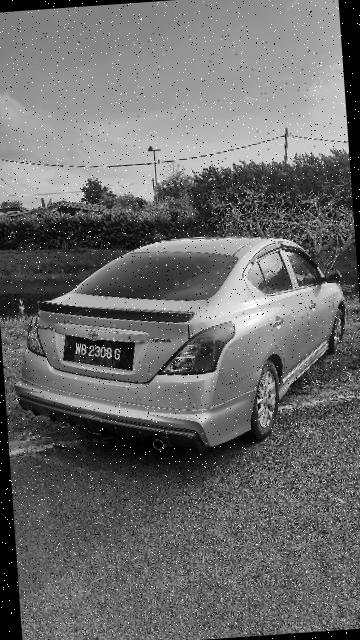License_Plate: (55, 327, 144, 381)
car: (5, 227, 358, 463)
